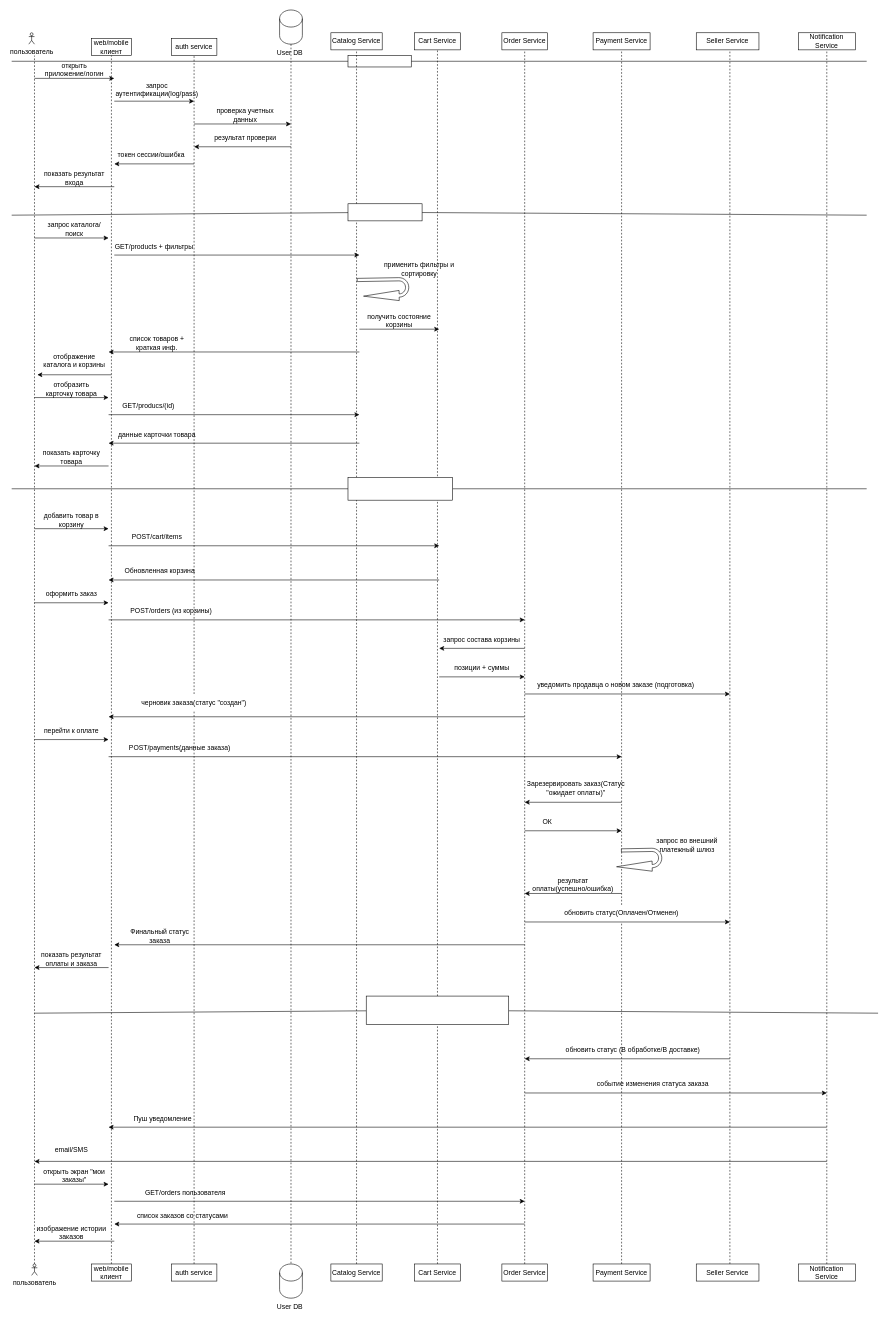
Image size: 889x1325. Some labels were removed from this diagram. Each missing label, with the box of its shape:
1.Аутентификация: (347, 55, 411, 67)
2. Просмотр каталога: (347, 203, 422, 221)
3. Оформление заказа и оплата: (347, 477, 453, 500)
4. Уведомление и сопровождение заказа: (366, 996, 509, 1025)
